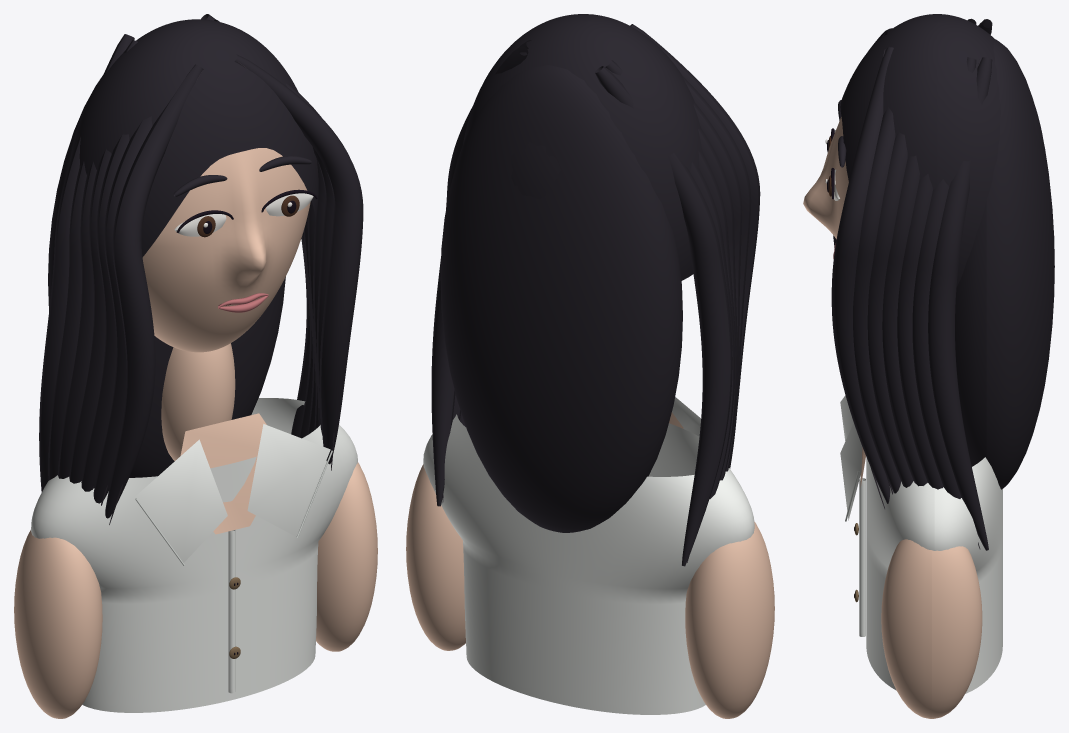
The model's file is portrait-avatar.glb.
The picture shows the model from 3 angles, left to right: view 1: azimuth 30°, elevation 25°; view 2: azimuth 150°, elevation 25°; view 3: azimuth 270°, elevation 25°; orthographic projection. The views are drawn at different scales.
Parts seen in each view (by area): view 1: LinenBlouse, PartedHairCap, SculptedFace, UpperArm-1, HairLock-1_0, HairLock1_0, UpperArm1, HairBack, FoldedCollar-1, Neck, FoldedCollar1, HairLock-1_6 (+13 smaller); view 2: HairBack, LinenBlouse, PartedHairCap, UpperArm-1, HairLock-1_6, UpperArm1, HairLock1_6, HairLock-1_0, HairLock-1_1, HairLock-1_2, HairLock-1_3, HairLock-1_5 (+2 smaller); view 3: HairBack, PartedHairCap, UpperArm1, LinenBlouse, HairLock1_6, HairLock1_0, HairLock1_1, HairLock1_2, HairLock1_5, HairLock1_3, HairLock1_4, SculptedFace (+2 smaller).
Boxes of the visible parts, x1,y1,x2,y2 form: LinenBlouse: [31, 398, 357, 712]; PartedHairCap: [70, 19, 318, 256]; SculptedFace: [142, 148, 310, 352]; UpperArm-1: [14, 530, 102, 718]; HairLock-1_0: [105, 64, 203, 518]; HairLock1_0: [234, 54, 363, 464]; UpperArm1: [316, 462, 377, 651]; HairBack: [48, 83, 285, 477]; FoldedCollar-1: [134, 439, 227, 562]; Neck: [161, 343, 235, 460]; FoldedCollar1: [247, 424, 330, 536]; HairLock-1_6: [39, 34, 134, 492]; HairBack: [440, 65, 682, 532]; LinenBlouse: [423, 414, 754, 714]; PartedHairCap: [463, 14, 703, 280]; UpperArm-1: [685, 521, 774, 718]; HairLock-1_6: [595, 66, 732, 566]; UpperArm1: [406, 464, 465, 650]; HairLock1_6: [431, 46, 528, 506]; HairLock-1_0: [630, 24, 760, 408]; HairLock-1_1: [681, 75, 751, 468]; HairLock-1_2: [693, 101, 742, 468]; HairLock-1_3: [698, 128, 737, 471]; HairLock-1_5: [605, 60, 734, 498]; HairBack: [955, 39, 1054, 489]; PartedHairCap: [840, 14, 1044, 285]; UpperArm1: [881, 539, 982, 718]; LinenBlouse: [866, 457, 1002, 693]; HairLock1_6: [928, 57, 992, 550]; HairLock1_0: [831, 47, 893, 503]; HairLock1_1: [853, 107, 900, 493]; HairLock1_2: [867, 132, 913, 487]; HairLock1_5: [912, 57, 976, 498]; HairLock1_3: [882, 155, 927, 486]; HairLock1_4: [897, 174, 943, 489]; SculptedFace: [803, 117, 848, 239].
Size of the model in its own units: 1.41 by 2.54 by 0.921.
